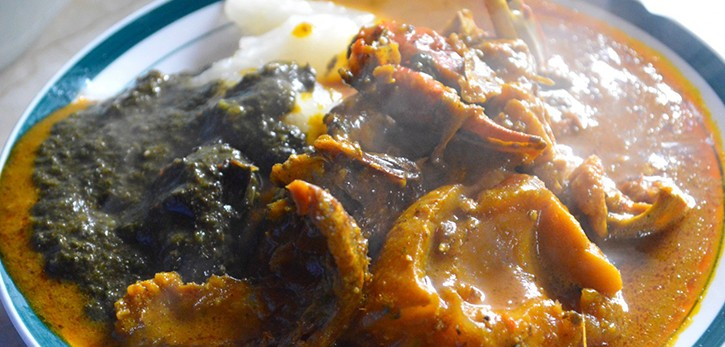crevette: (380, 19, 539, 156)
kplala: (84, 76, 146, 246)
peau de boeuf: (437, 191, 565, 251)
placali: (256, 3, 337, 54)
sauce graine: (603, 52, 698, 164)
